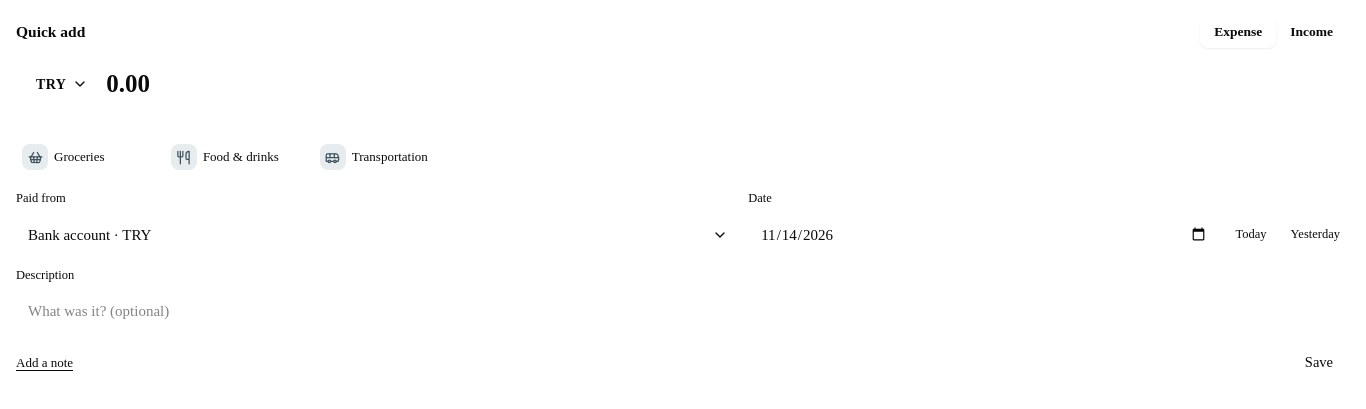
Test: Quick Add validation › requires a category when none is preselected
Step 1. Click the button "Income" → point(1312, 32), box [1276,16,1347,48]
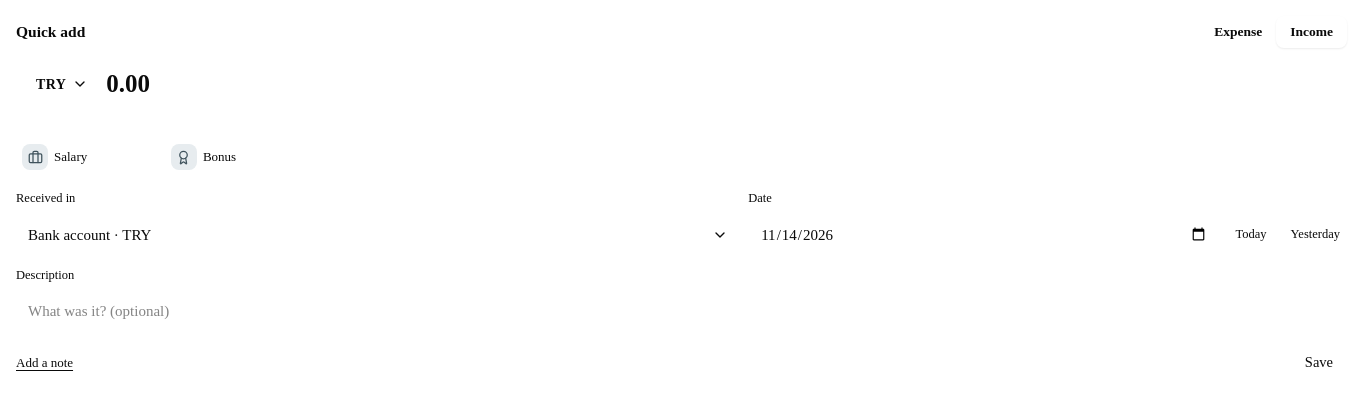
Step 2. Type "500" into the field named "Amount" → point(723, 84), box [106,64,1340,104]
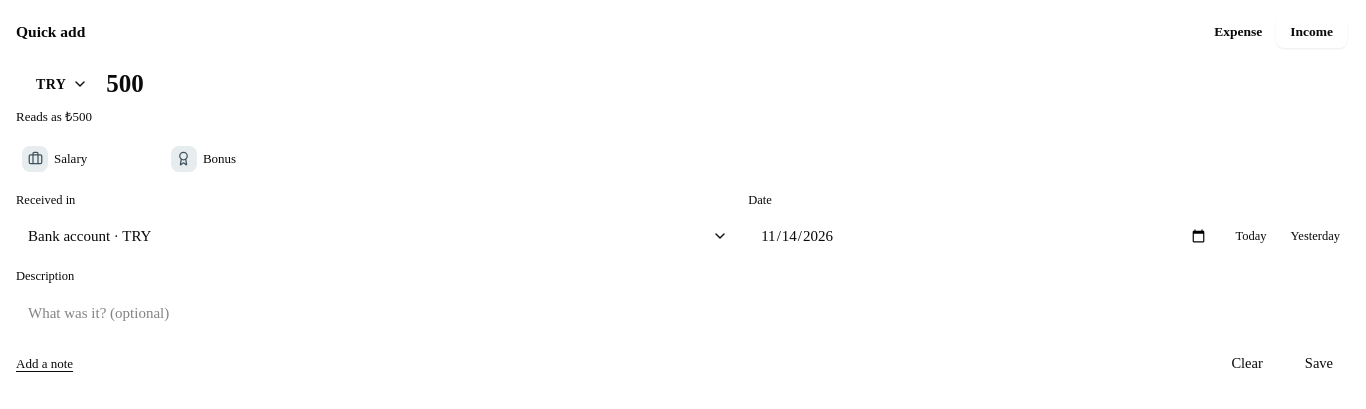
Step 3. Click the button "Save" → point(1319, 364), box [1288,344,1350,384]
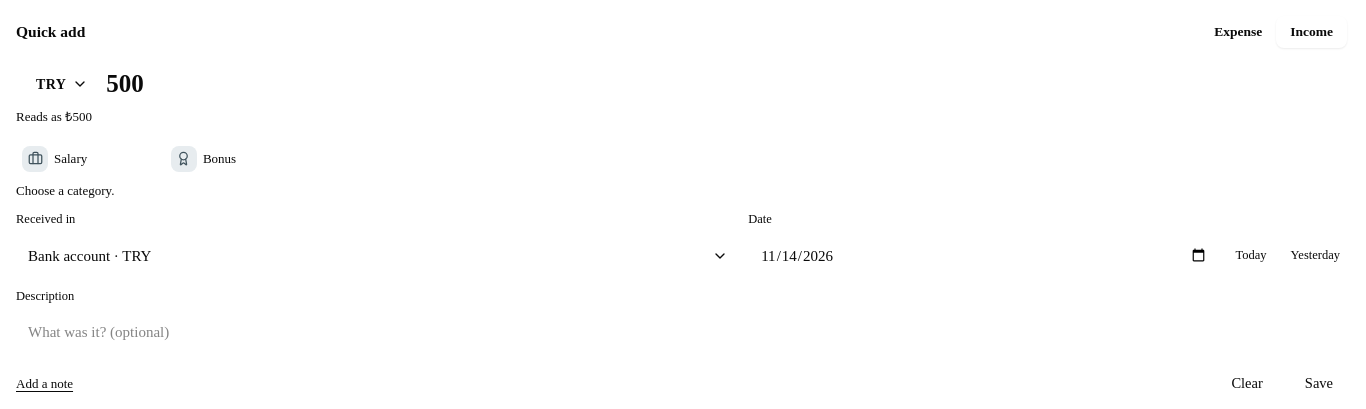
Expected: the message reads "Choose a category.", [16,182,114,198]
